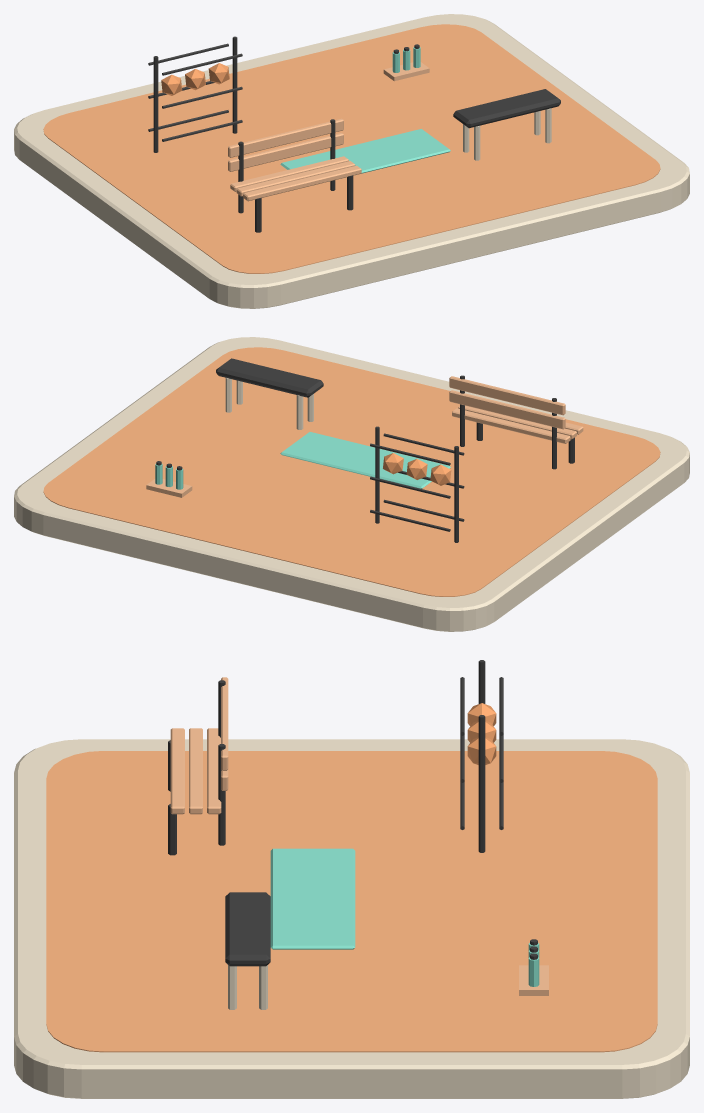
3 renders of one model, top to bottom at view 1: azimuth 30°, elevation 25°; view 2: azimuth 150°, elevation 25°; view 3: azimuth 270°, elevation 25°, orthographic. The views are drawn at different scales.
Visible parts, largest first — view 1: COM-02 Floor Surface, COM-01 Rounded Base Direct, Exercise mat, Cushion, Back slat.001, Back slat, Seat slat, Seat slat.001, Seat slat.002, Frame, Frame.001, Tray; view 2: COM-02 Floor Surface, COM-01 Rounded Base Direct, Exercise mat, Cushion, Back slat, Back slat.001, Seat slat.002, Seat slat.001, Frame, Tray; view 3: COM-02 Floor Surface, COM-01 Rounded Base Direct, Exercise mat, Cushion, Seat slat, Seat slat.001, Frame.001, Seat slat.002, Tray, Back slat.001.
Part boxes in pixels (x1,y1,x2,y2): COM-02 Floor Surface: [43, 24, 660, 273]; COM-01 Rounded Base Direct: [14, 14, 689, 308]; Exercise mat: [280, 129, 450, 173]; Cushion: [453, 89, 560, 128]; Back slat.001: [228, 118, 343, 157]; Back slat: [228, 132, 343, 171]; Seat slat: [243, 165, 361, 201]; Seat slat.001: [236, 161, 355, 196]; Seat slat.002: [230, 156, 348, 191]; Frame: [153, 56, 158, 152]; Frame.001: [232, 36, 237, 133]; Tray: [383, 62, 429, 81]; COM-02 Floor Surface: [43, 347, 660, 596]; COM-01 Rounded Base Direct: [14, 337, 689, 631]; Exercise mat: [280, 432, 450, 488]; Cushion: [216, 358, 323, 397]; Back slat: [449, 390, 565, 429]; Back slat.001: [449, 376, 565, 415]; Seat slat.002: [452, 408, 570, 443]; Seat slat.001: [458, 405, 576, 439]; Frame: [454, 446, 458, 542]; Tray: [146, 479, 192, 497]; COM-02 Floor Surface: [46, 751, 657, 1052]; COM-01 Rounded Base Direct: [14, 739, 689, 1098]; Exercise mat: [270, 848, 355, 949]; Cushion: [225, 892, 270, 966]; Seat slat: [170, 728, 184, 814]; Seat slat.001: [189, 728, 202, 814]; Frame.001: [478, 715, 485, 852]; Seat slat.002: [207, 728, 221, 814]; Tray: [519, 965, 548, 995]; Back slat.001: [221, 677, 228, 770].
Size of the model in its own units: 6 by 1.45 by 5.2.
1 material, 1 textured.
